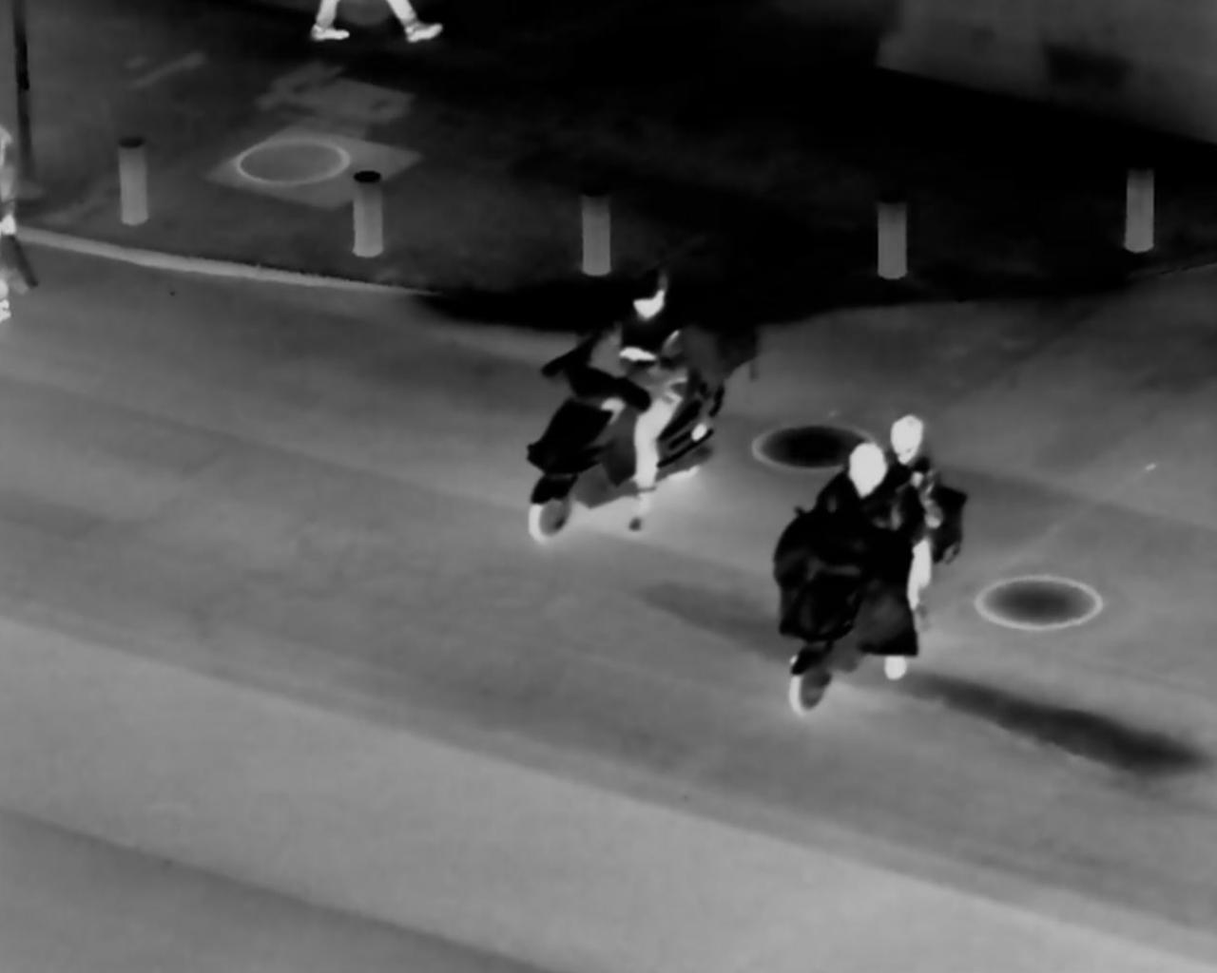person: (592, 256, 693, 543), (799, 433, 907, 678), (873, 409, 952, 618)
